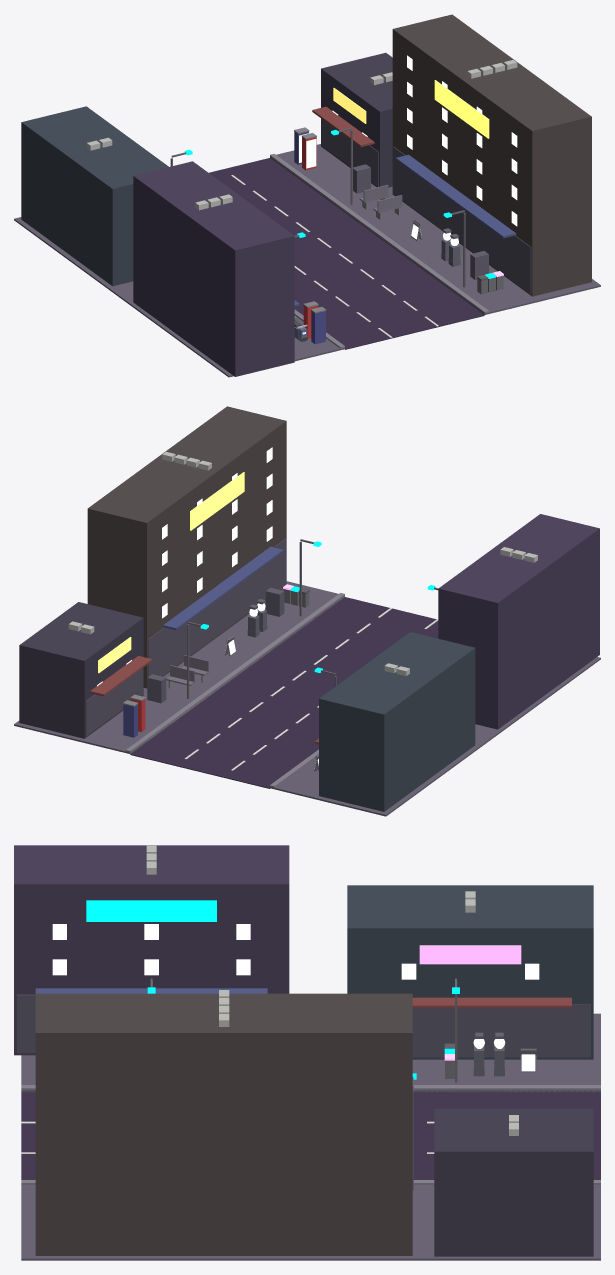
The model's file is env3-2.glb.
The picture shows the model from 3 angles, top to bottom: view 1: azimuth 30°, elevation 25°; view 2: azimuth 150°, elevation 25°; view 3: azimuth 270°, elevation 25°; orthographic projection. The views are drawn at different scales.
Visible parts, largest first — view 1: env3-2; view 2: env3-2; view 3: env3-2.
Boxes of the visible parts, left/top/right/bottom form: env3-2: left=14, top=14, right=600, bottom=377; env3-2: left=14, top=406, right=600, bottom=816; env3-2: left=14, top=845, right=600, bottom=1260.
Size of the model in its own units: 20 by 8.93 by 20.25.
